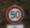Speed Limit -50-: (0, 0, 29, 27)
